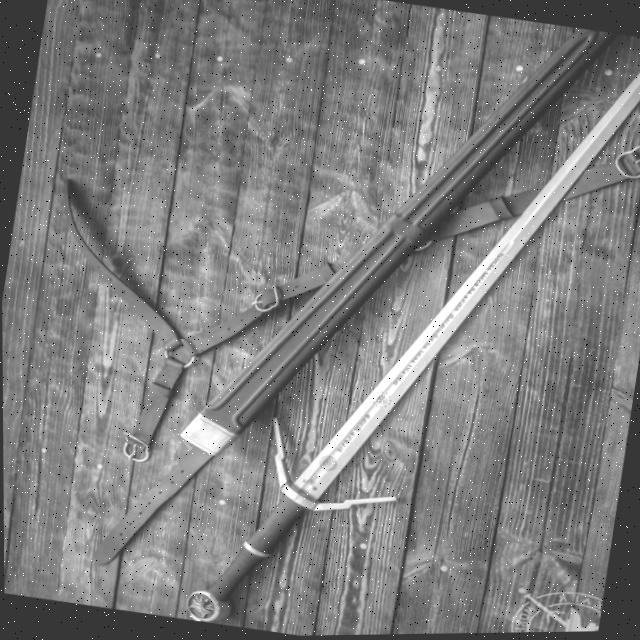knife: (86, 0, 640, 639)
